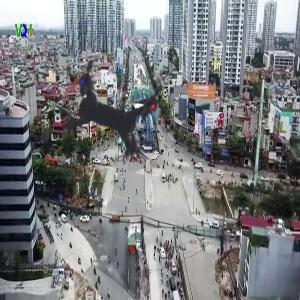drone: (4, 10, 209, 215)
